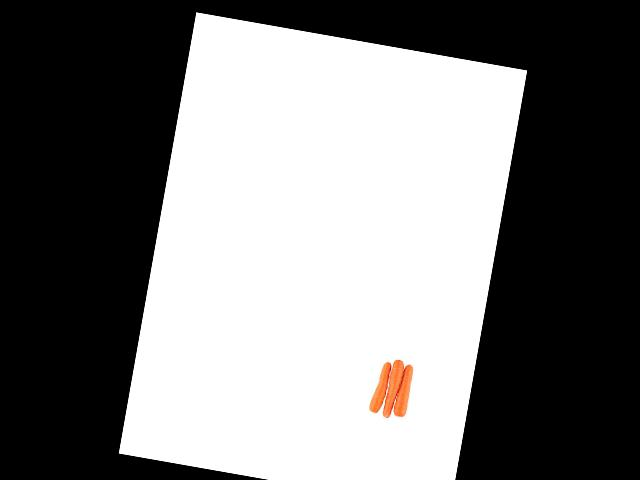carrot: (393, 358, 417, 422)
